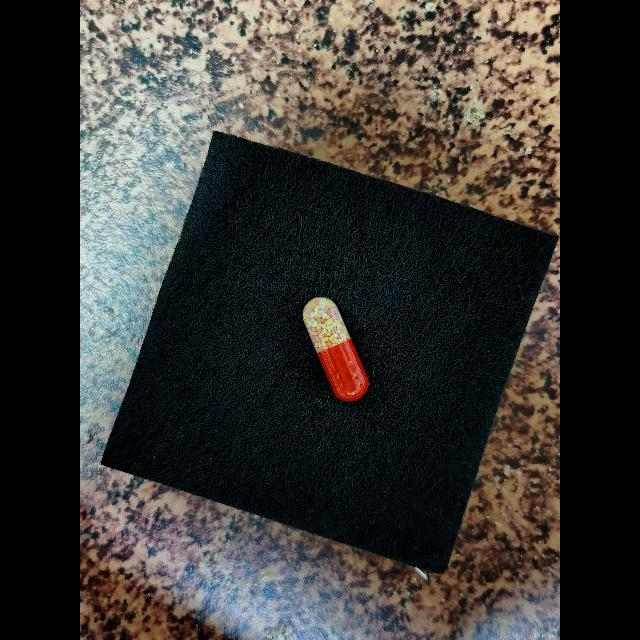Intact Capsule: (303, 297, 369, 401)
